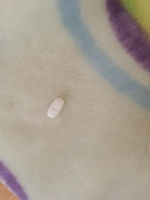Centik Buskopan: (46, 96, 65, 119)
